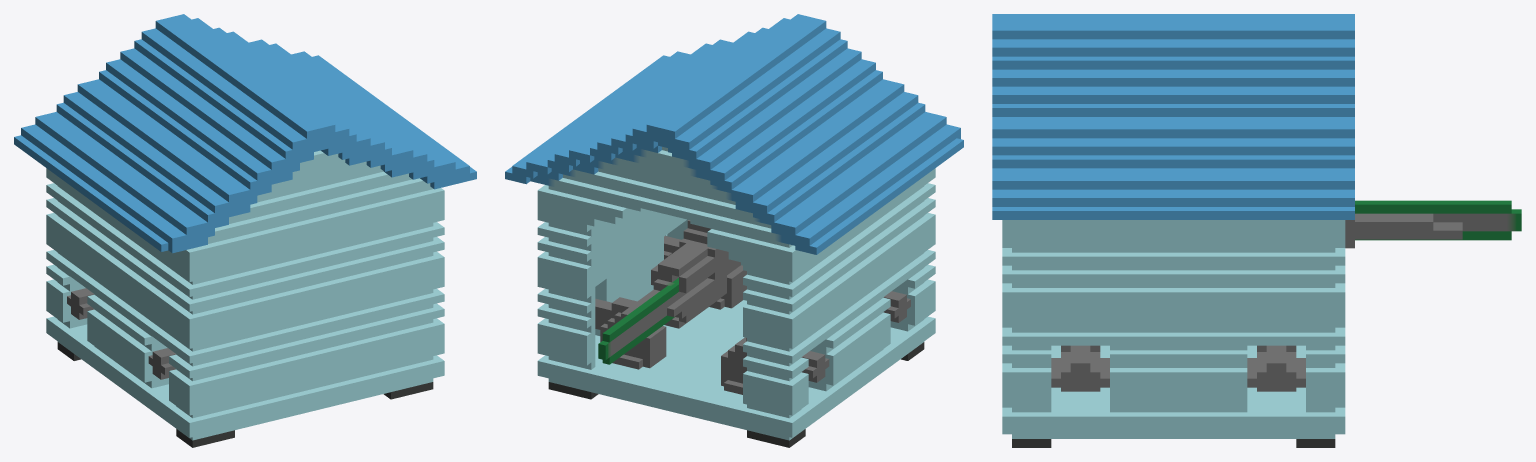
The model's file is Enemy-10-DogEasy.fbx.
The picture shows the model from 3 angles, left to right: view 1: azimuth 30°, elevation 25°; view 2: azimuth 150°, elevation 25°; view 3: azimuth 270°, elevation 25°; orthographic projection. The views are drawn at different scales.
Parts seen in each view (by area): view 1: DogEasy; view 2: DogEasy; view 3: DogEasy.
Part boxes in pixels (x1,y1,x2,y2): DogEasy: (14,14,476,447); DogEasy: (505,14,963,447); DogEasy: (992,14,1521,447).
Size of the model in its own units: 44 by 40 by 54.
1 material, 1 textured.
